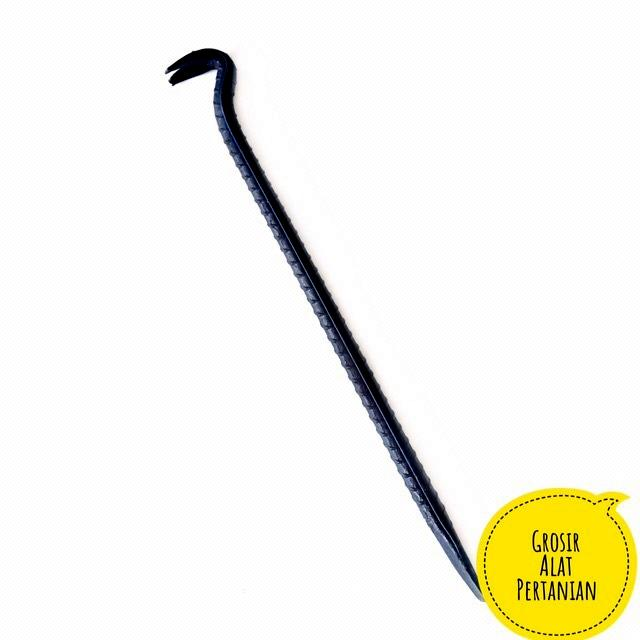crow bar: (153, 43, 494, 606)
